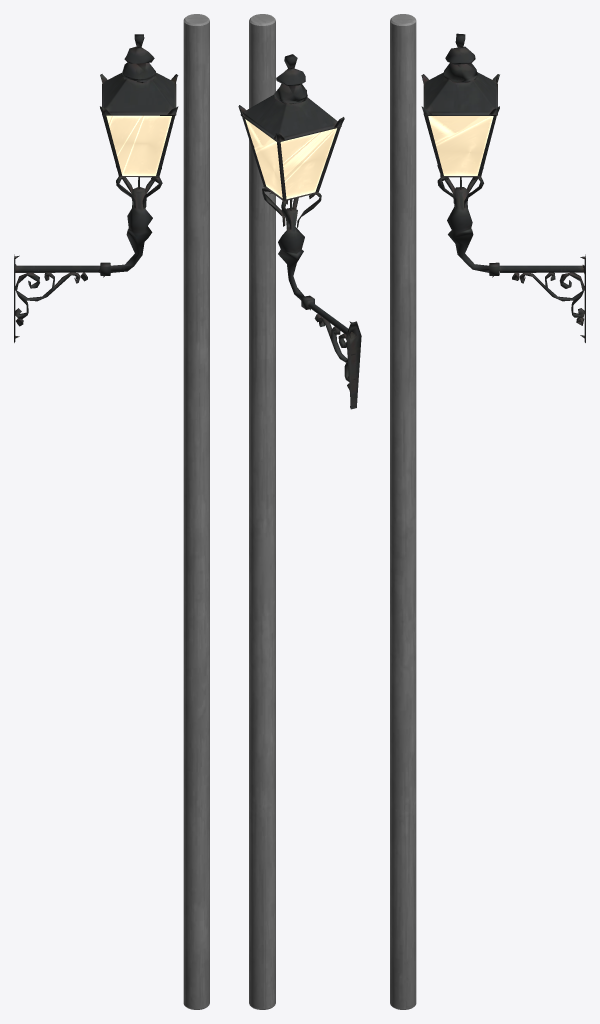
File: farol_calle.glb
3 views of the same model, side by side, from view 1: azimuth 90°, elevation 25°; view 2: azimuth 210°, elevation 25°; view 3: azimuth 270°, elevation 25° (orthographic).
Visible parts, largest first — view 1: cerca; view 2: cerca, lejos; view 3: cerca.
Boxes of the visible parts, box(x1,y1,x2,y2) form: cerca: box(14, 14, 209, 1009); cerca: box(238, 14, 361, 1009); lejos: box(253, 15, 275, 1008); cerca: box(390, 14, 585, 1009).
Size of the model in its own units: 0.5212 by 7.2 by 1.3.
3 materials, 3 textured.
